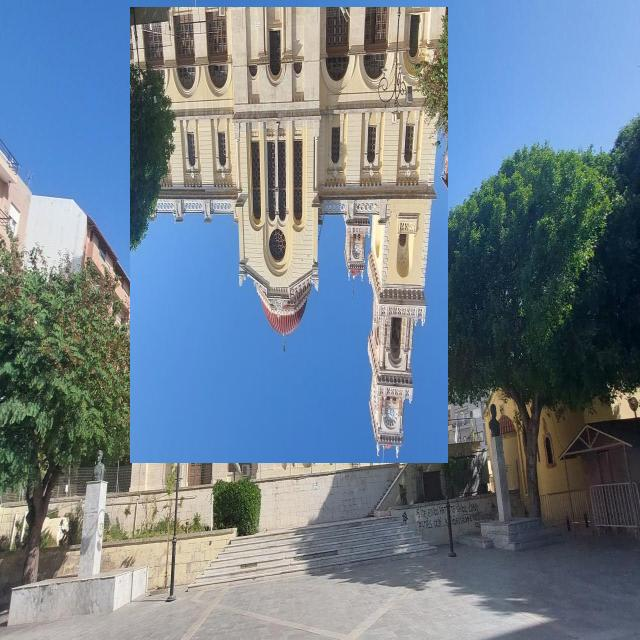Agios Minas: (131, 8, 449, 464)
